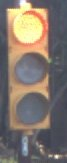Red: (5, 5, 60, 139)
